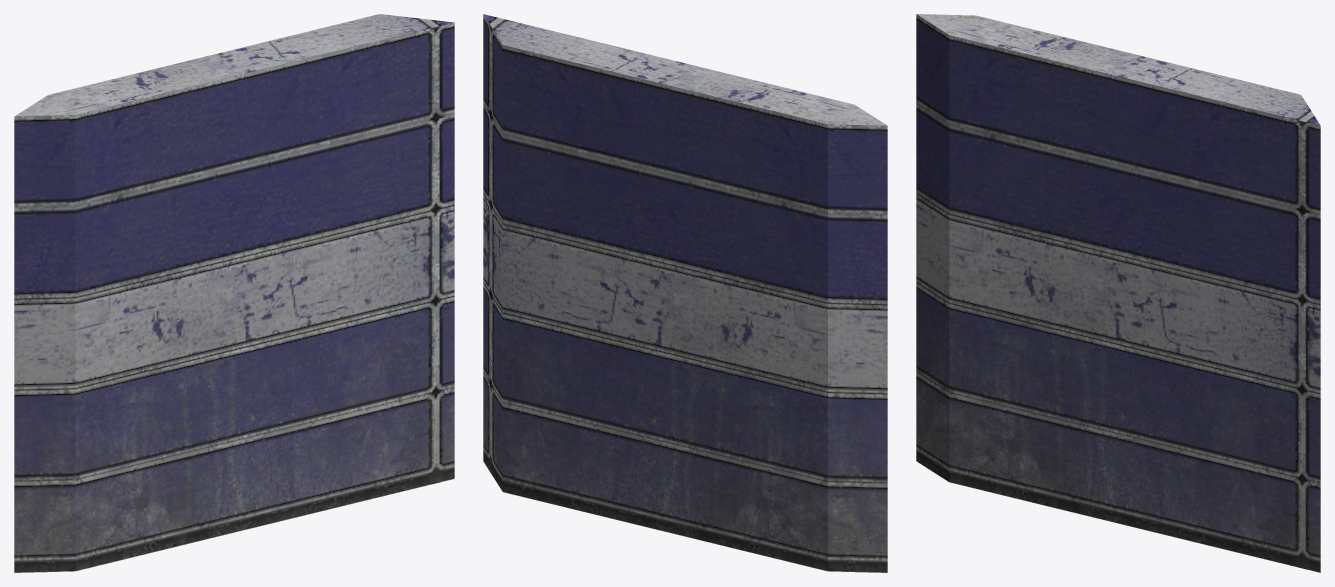
Rendered from wall19.obj.
3 views of the same model, side by side, from view 1: azimuth 30°, elevation 25°; view 2: azimuth 150°, elevation 25°; view 3: azimuth 330°, elevation 25° (orthographic). The views are drawn at different scales.
Parts seen in each view (by area): view 1: Cube.022; view 2: Cube.022; view 3: Cube.022.
Boxes of the visible parts, left/top/right/bottom form: Cube.022: left=14, top=14, right=454, bottom=572; Cube.022: left=483, top=14, right=887, bottom=572; Cube.022: left=916, top=14, right=1320, bottom=572.
Bounding box in the file's own units: 2.81 × 2.88 × 0.3125.
